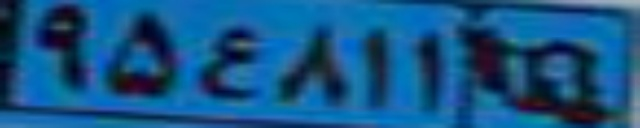1: (412, 30, 452, 111), (359, 26, 390, 109), (497, 50, 530, 99)
5: (101, 11, 180, 97)
8: (276, 25, 350, 106)
9: (31, 3, 90, 93), (536, 50, 590, 106)
ain: (194, 26, 258, 100)
